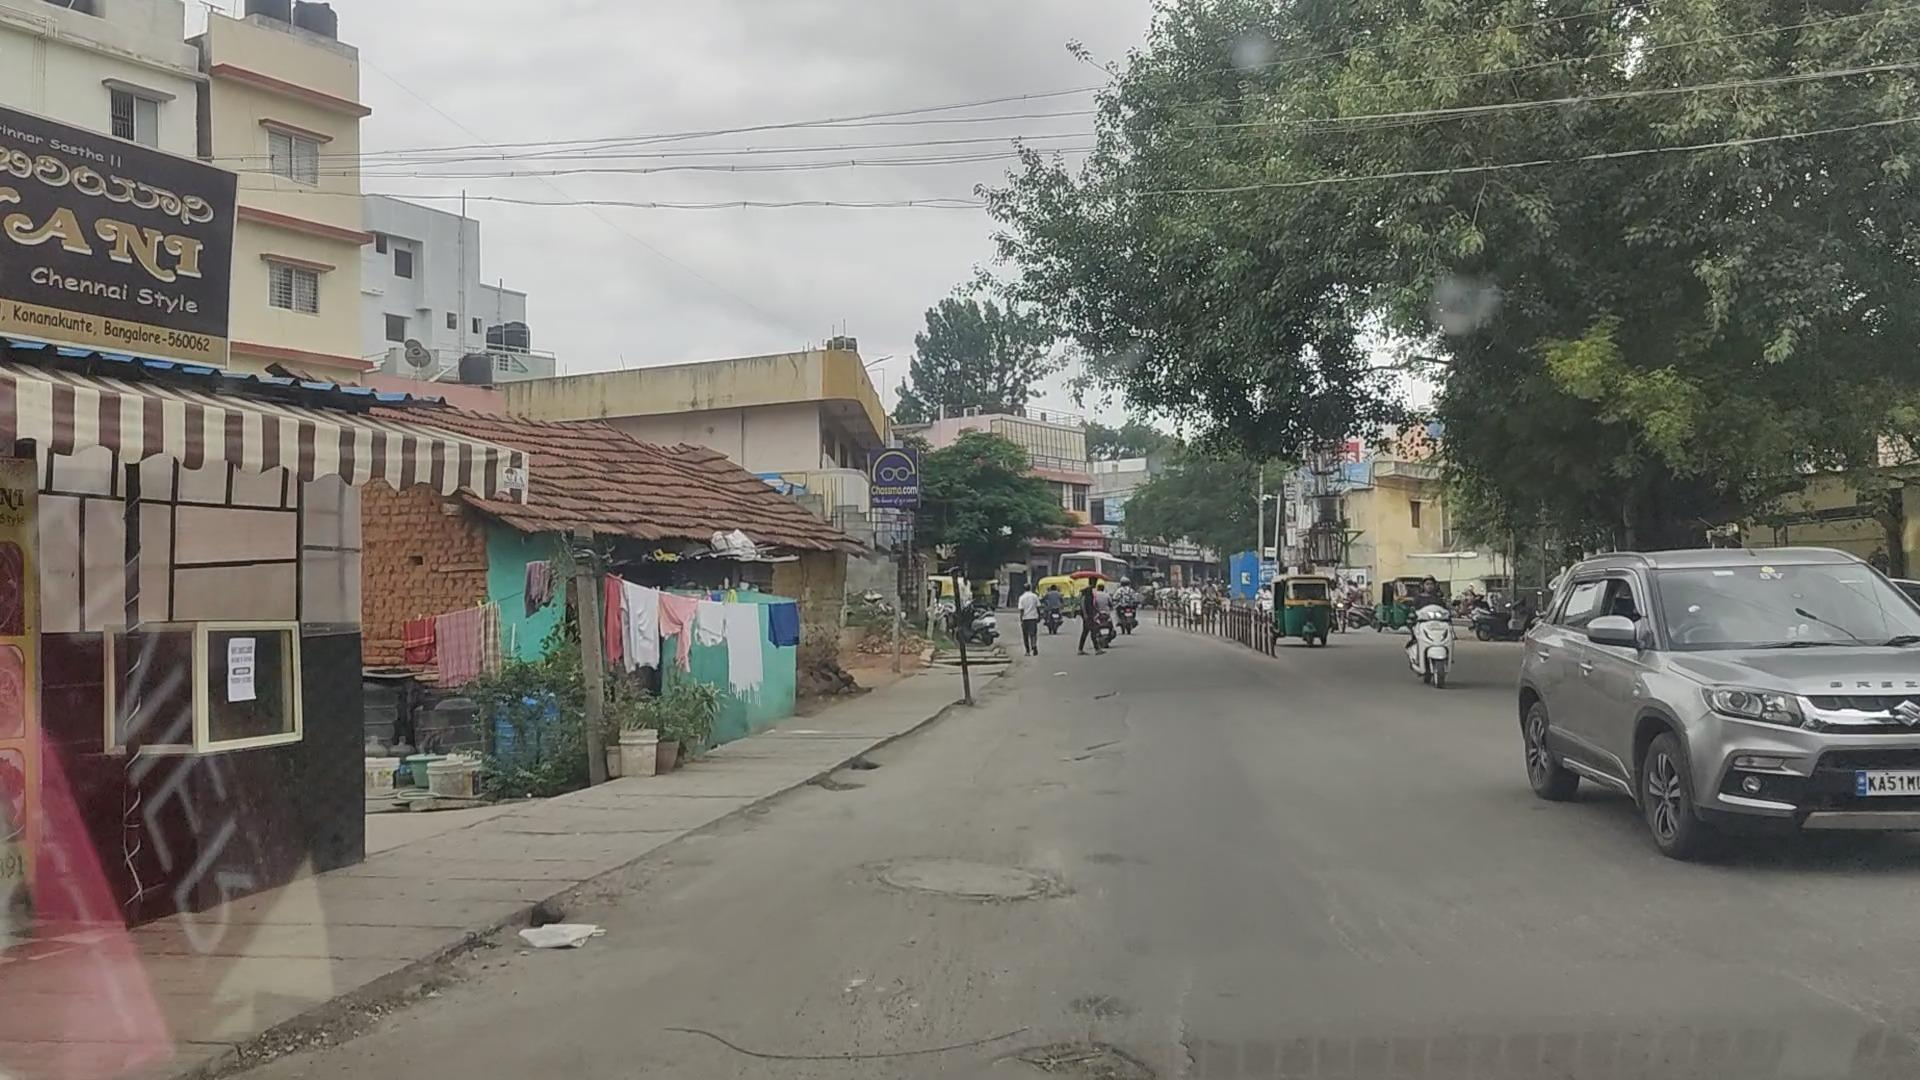RoadDamages: (852, 844, 1091, 927), (982, 1013, 1163, 1080), (1071, 684, 1129, 785)
